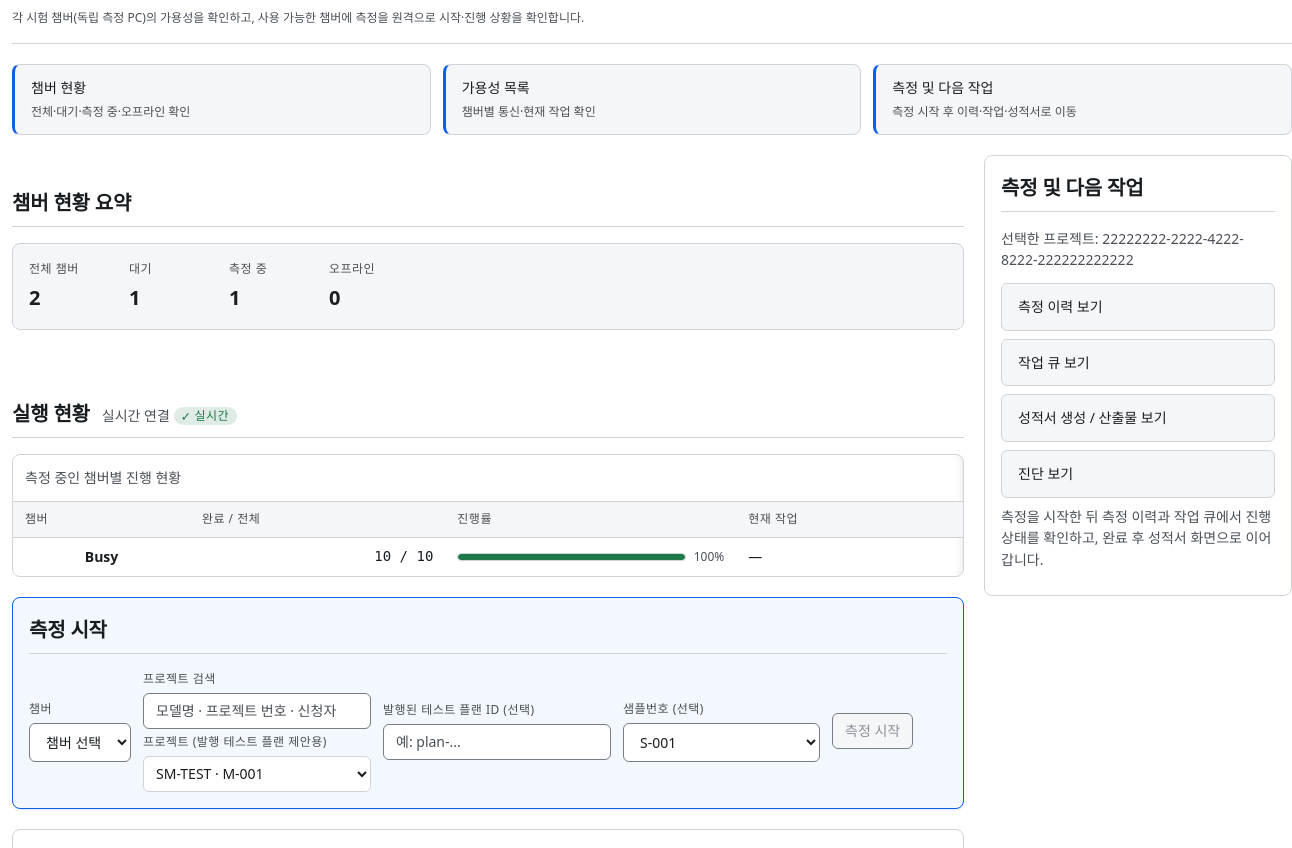
Test case: ChambersRoute › lists only startable chambers and starts a measurement, then polls progress
Expected: the form with test id "chambers-start-form" is shown, [29,670,947,792]
Step 1. Select "Free" in the dropdown with test id "chambers-start-select" → coordinates (80, 742), box [29,723,131,762]
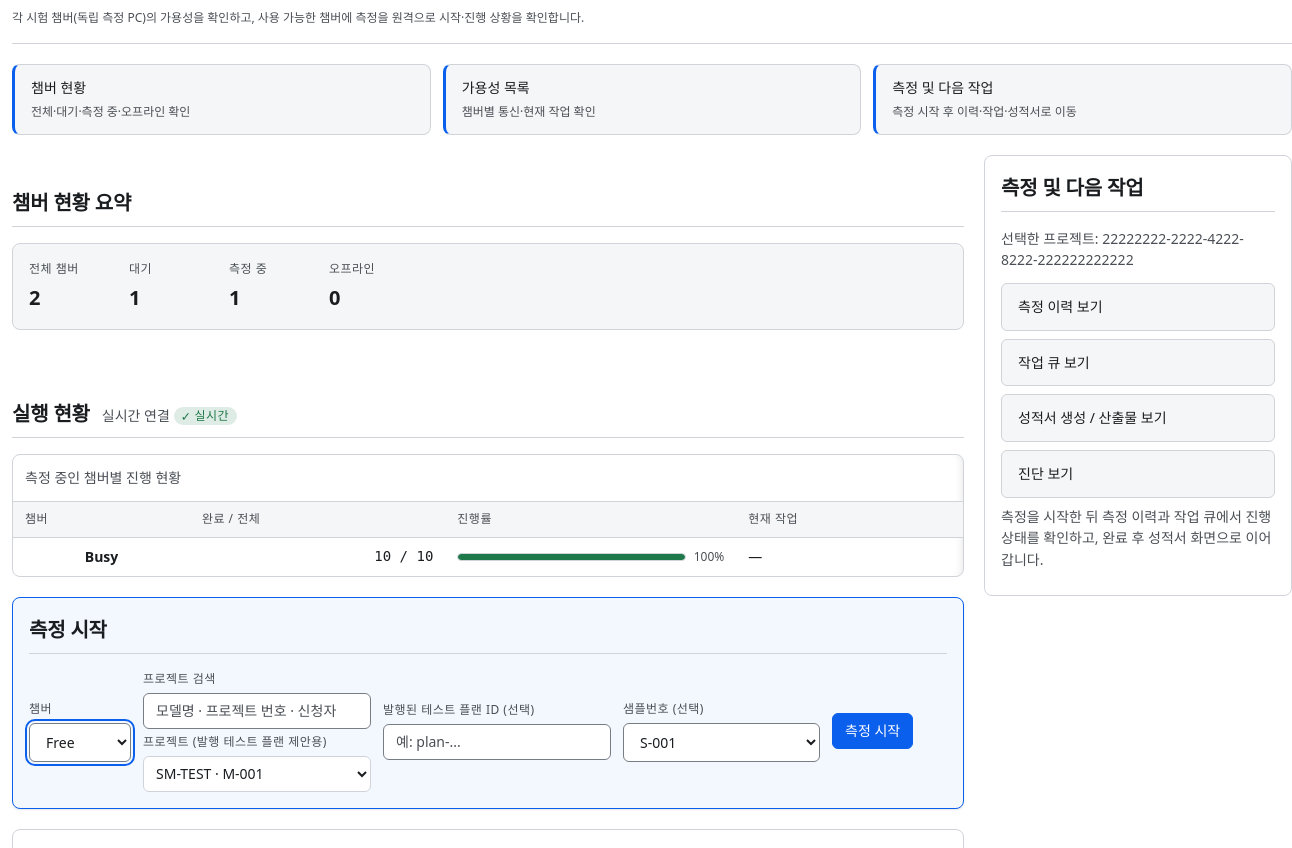
Step 2. Click the button with test id "chambers-start-submit" → coordinates (873, 731), box [832,713,913,749]
(page scrolled)
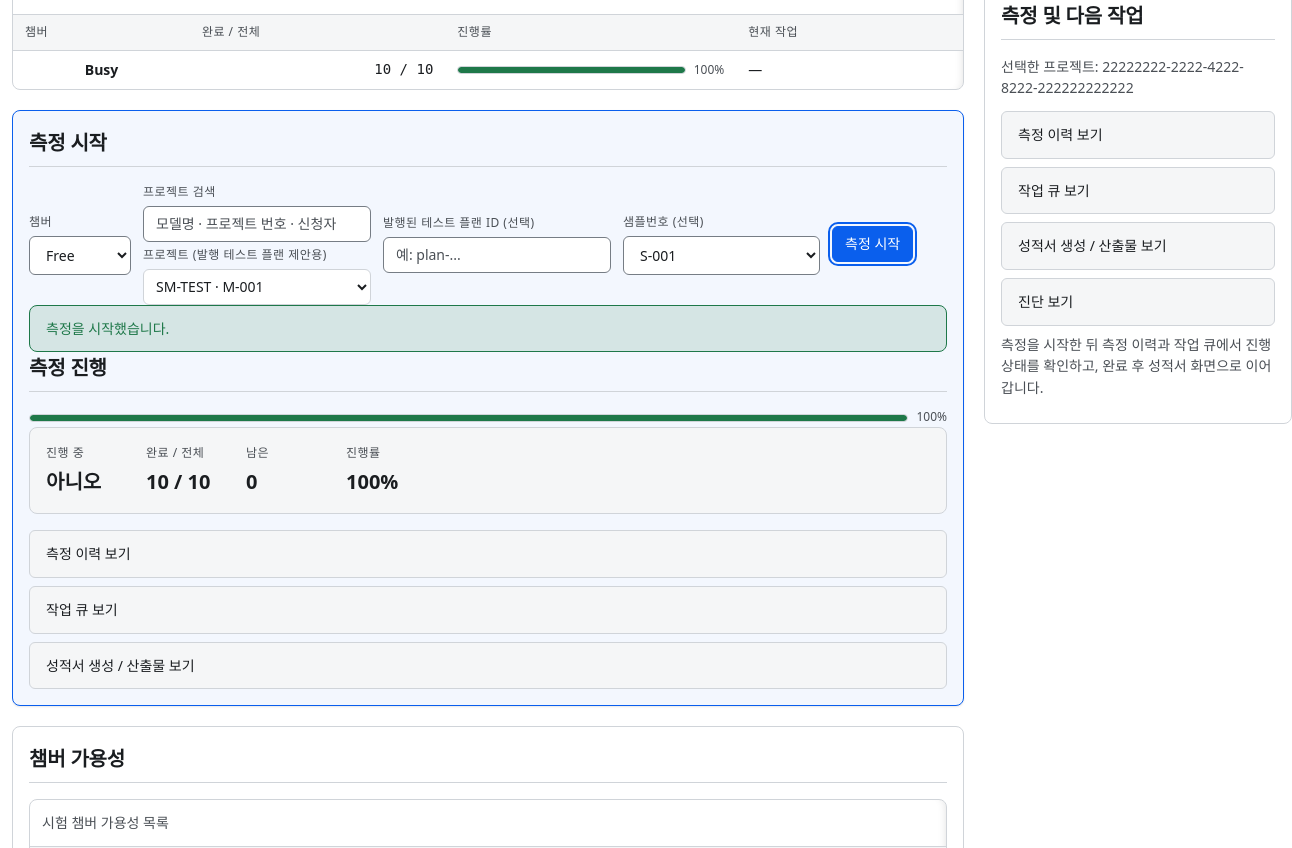
Result: the message "측정을 시작했습니다." is shown at [29,304,947,352]
Result: the element with test id "chambers-progress" is shown at [29,352,947,690]
